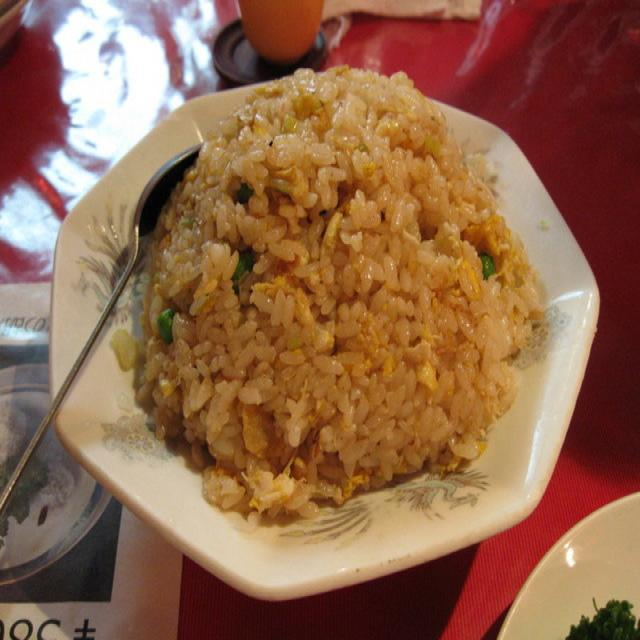米饭主食: (100, 48, 548, 540)
